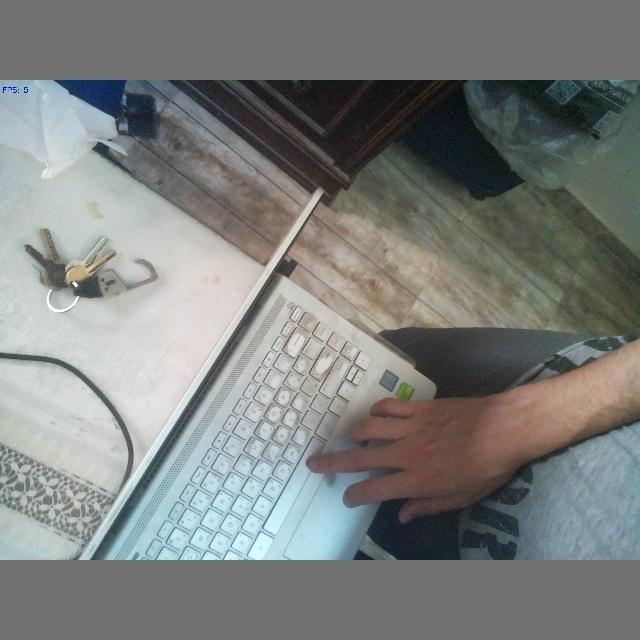Keys: (13, 215, 167, 329)
